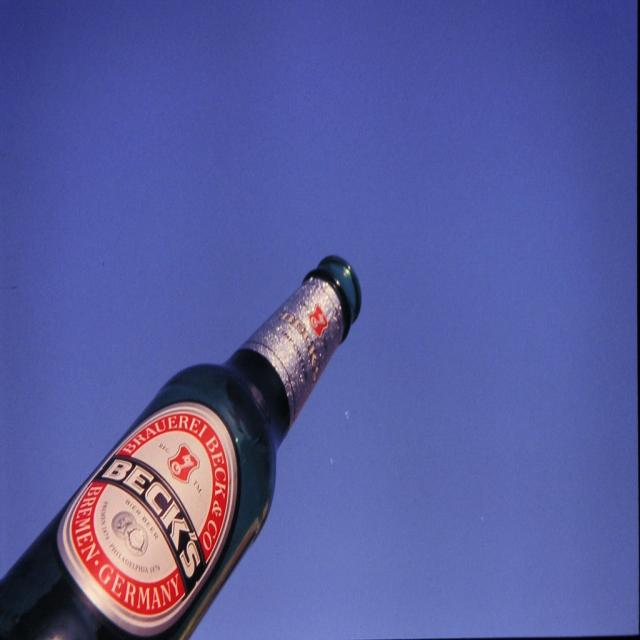becks: (59, 404, 238, 636)
